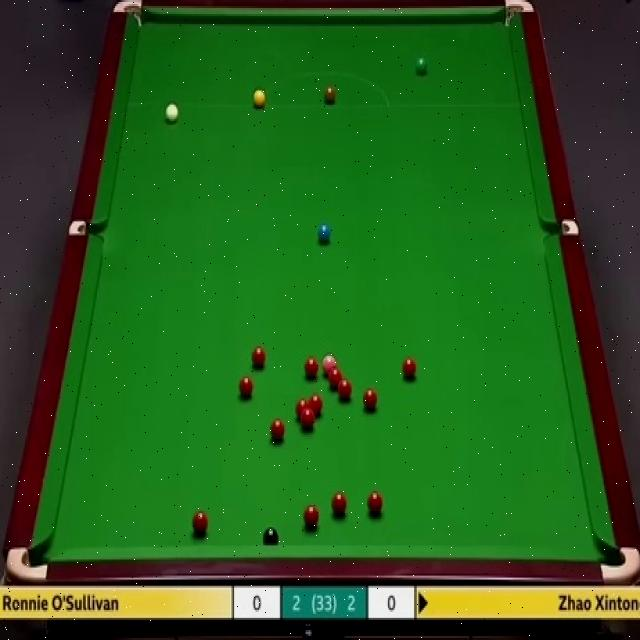black-ball: (263, 527, 279, 546)
blue-ball: (316, 219, 331, 245)
brown-ball: (324, 86, 335, 104)
green-ball: (413, 57, 429, 76)
pink-ball: (323, 355, 337, 377)
red-ball: (401, 357, 418, 385), (192, 510, 209, 536), (367, 490, 383, 516), (239, 377, 255, 402), (362, 387, 377, 413), (304, 504, 319, 529), (332, 492, 347, 517), (310, 394, 324, 419), (270, 419, 285, 442), (338, 378, 352, 402), (328, 367, 343, 389), (252, 347, 266, 369), (296, 398, 309, 419), (305, 359, 318, 379), (302, 410, 314, 430)
white-ball: (165, 101, 179, 126)
yellow-ball: (252, 88, 266, 108)
